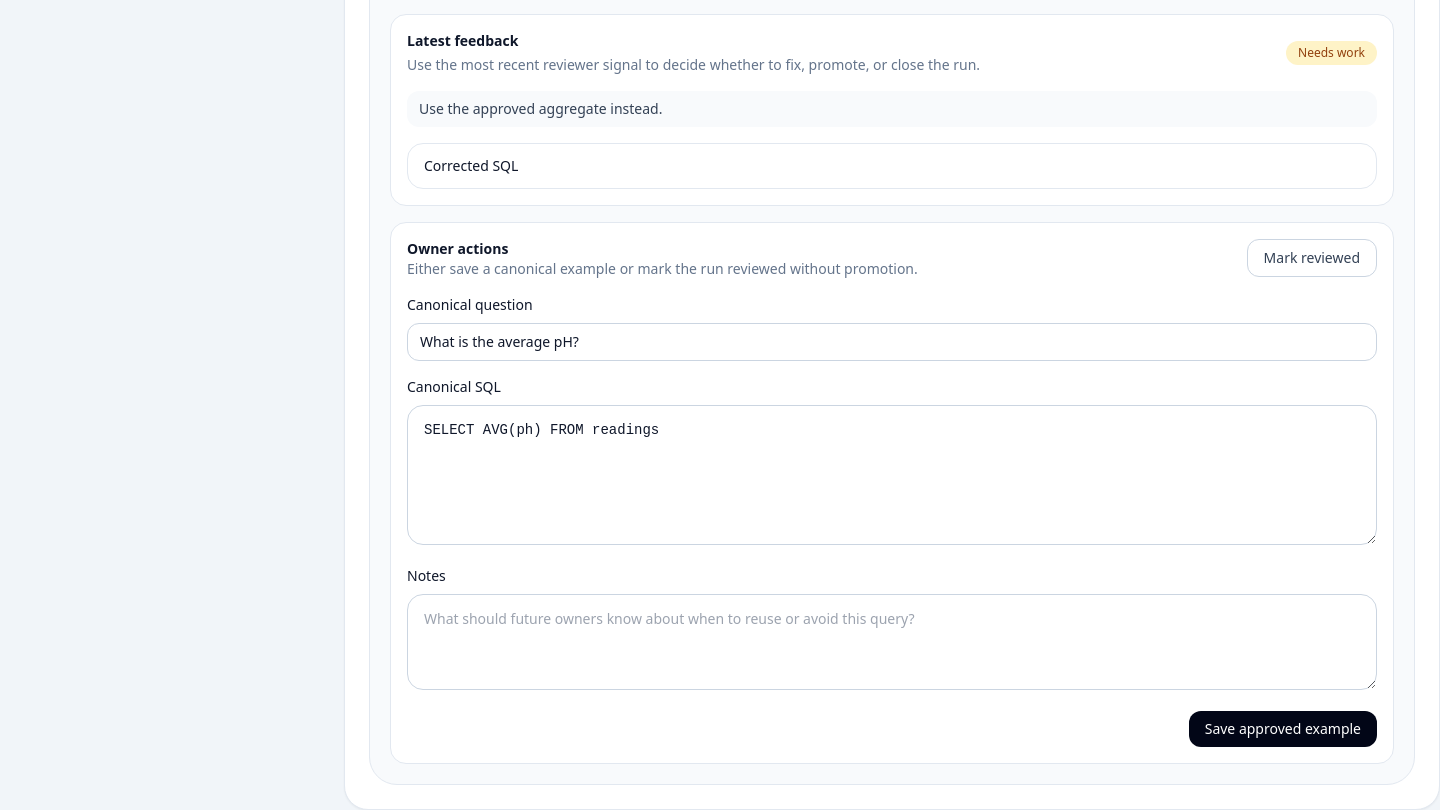
it: ReviewPage › creates a canonical example using corrected SQL and refreshes the queue
(page scrolled)
Check: the text box showing "SELECT AVG(ph) FROM readings" is shown, box 407,405 -> 1377,545
Click the button "Save approved example".
click(1283, 729)  # box 1189,711 -> 1377,747
(page scrolled)
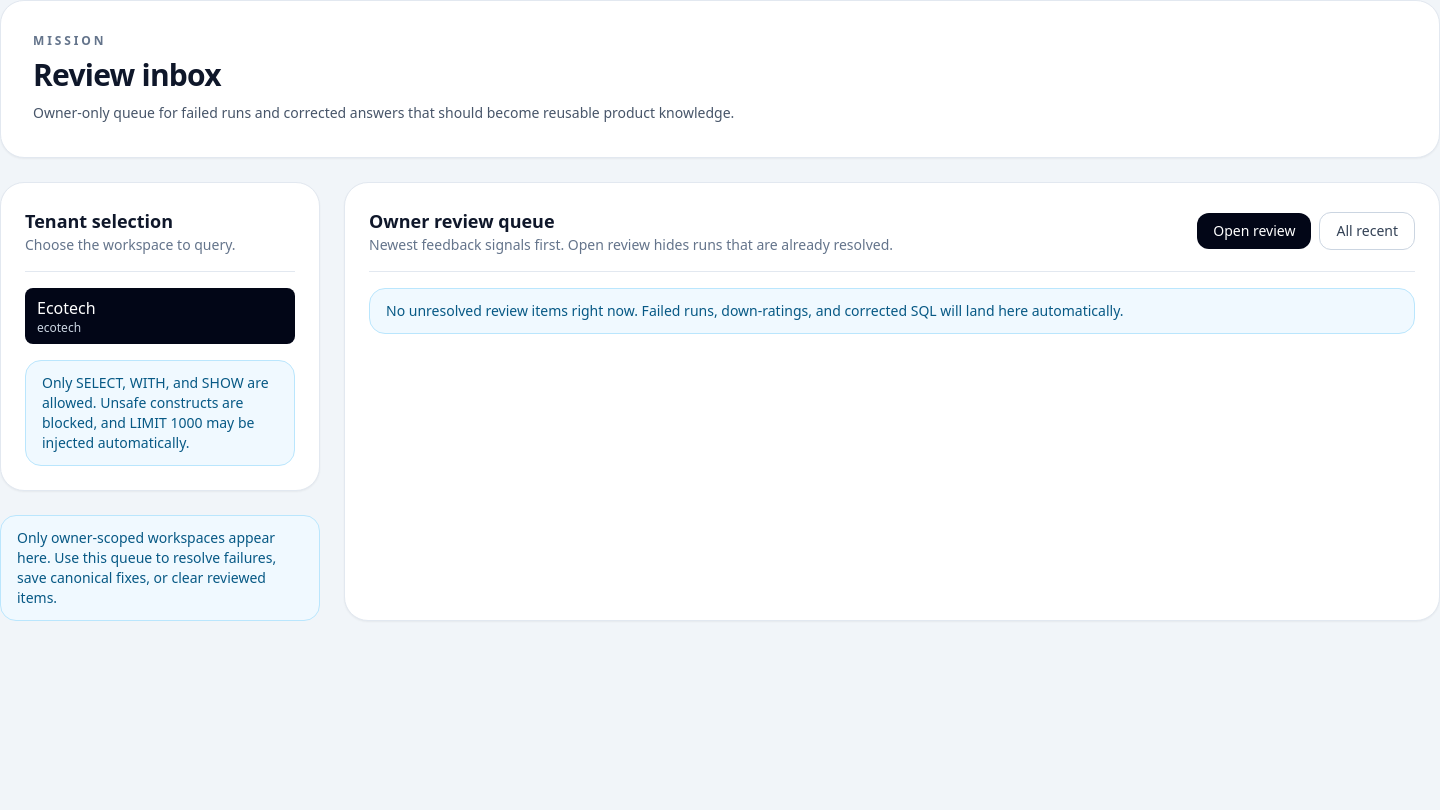
Check: the text "No unresolved review items right now" is shown, box 386,301 -> 1124,320
